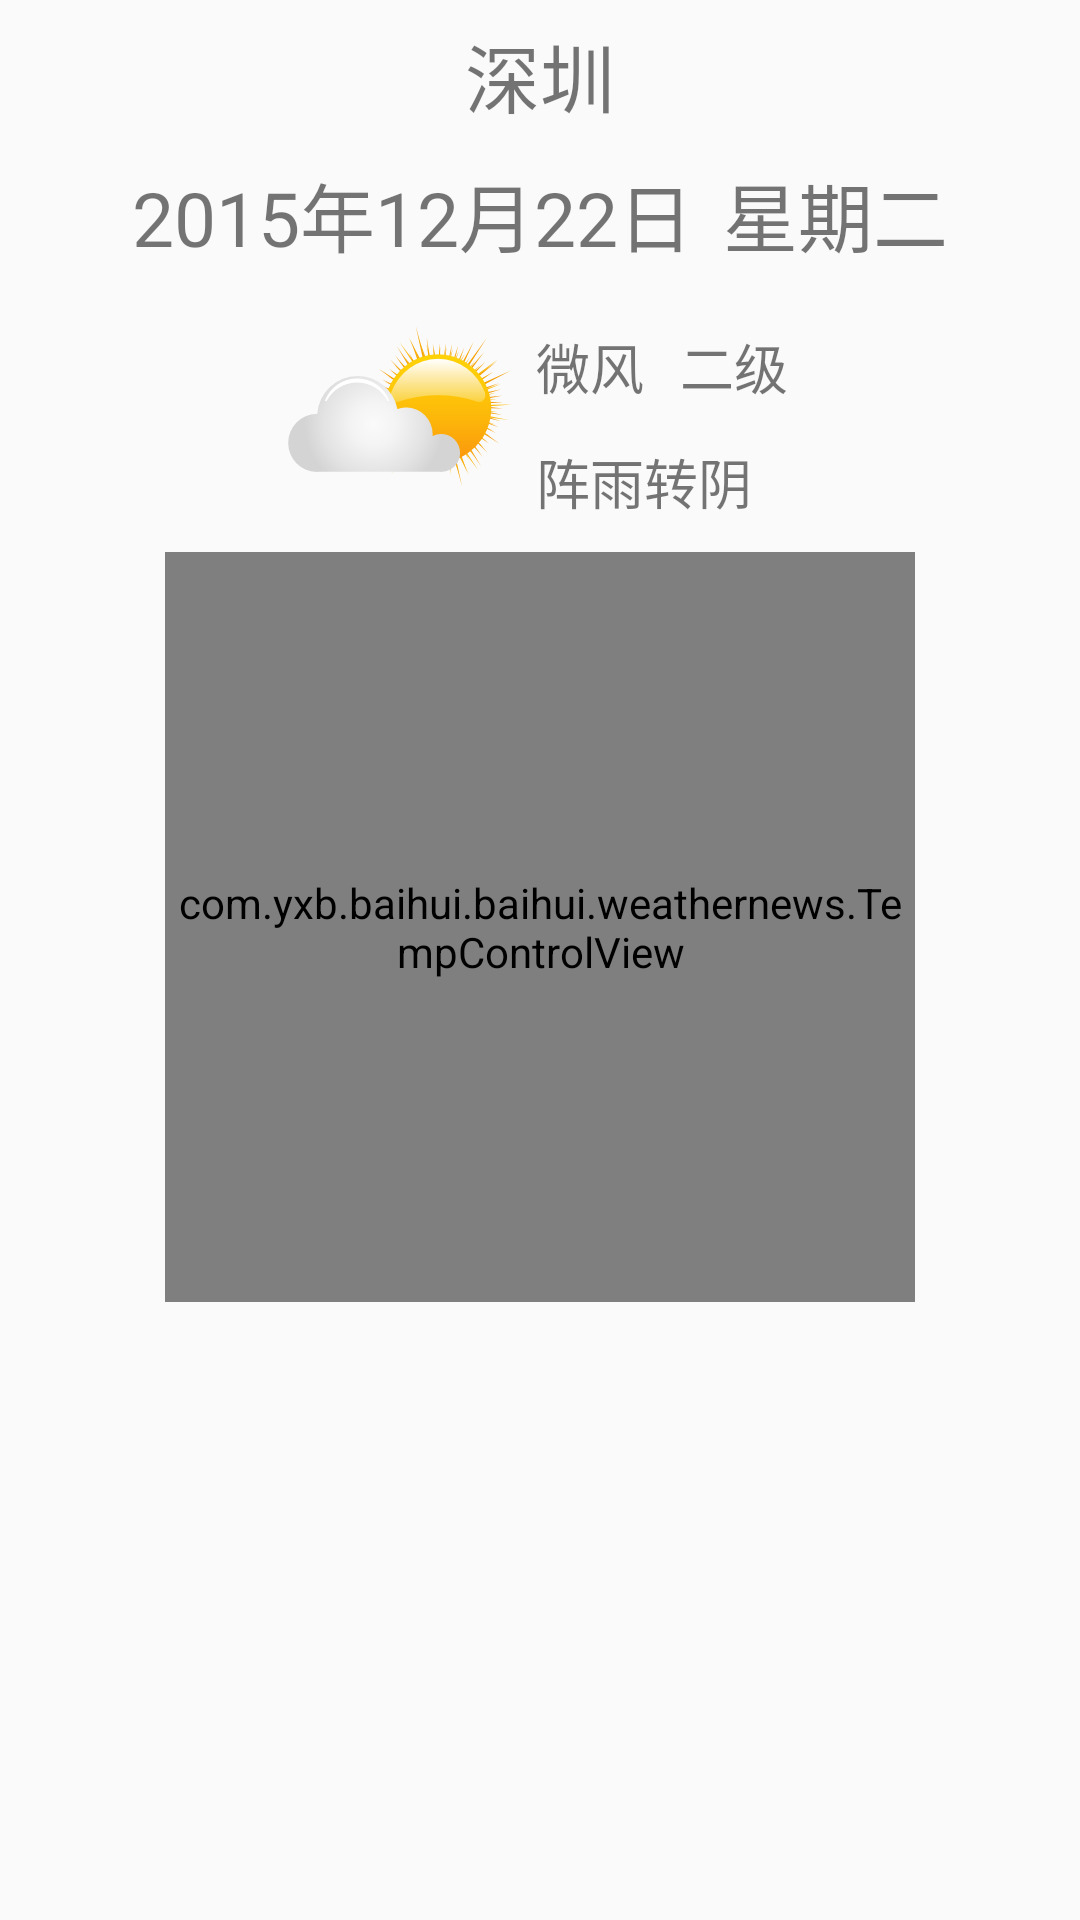

Where icons sit on this 1080*1920 app screen, as (x1, y1, x2, y2):
weather qing: (288, 328, 510, 485)
